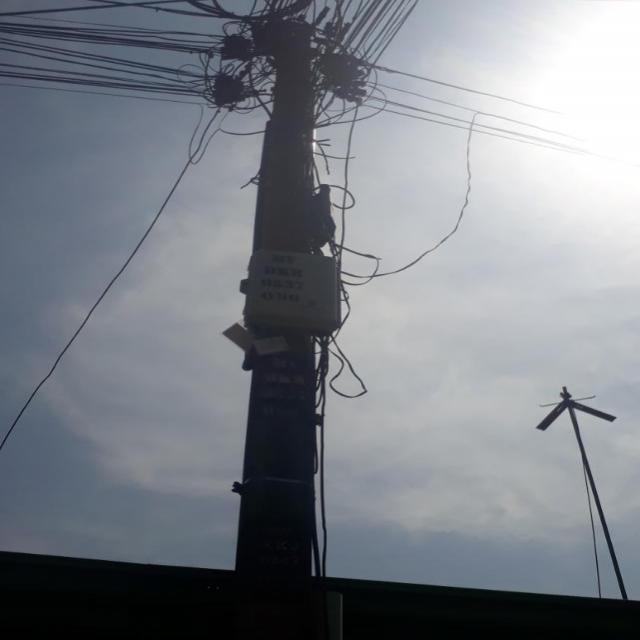light_pole: (222, 17, 347, 577)
